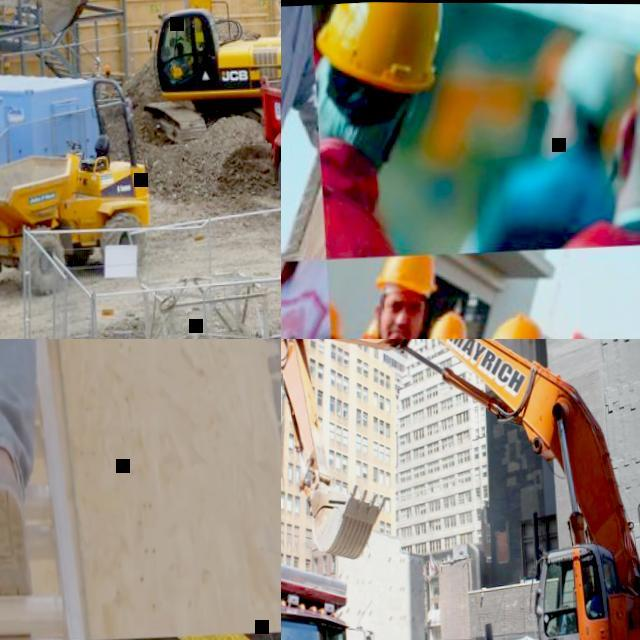helmet: (316, 2, 441, 94), (563, 35, 629, 112), (372, 251, 442, 296), (538, 36, 576, 94), (478, 309, 550, 339), (418, 311, 467, 339), (326, 300, 344, 339), (363, 318, 377, 339)
vest: (176, 39, 194, 63)
